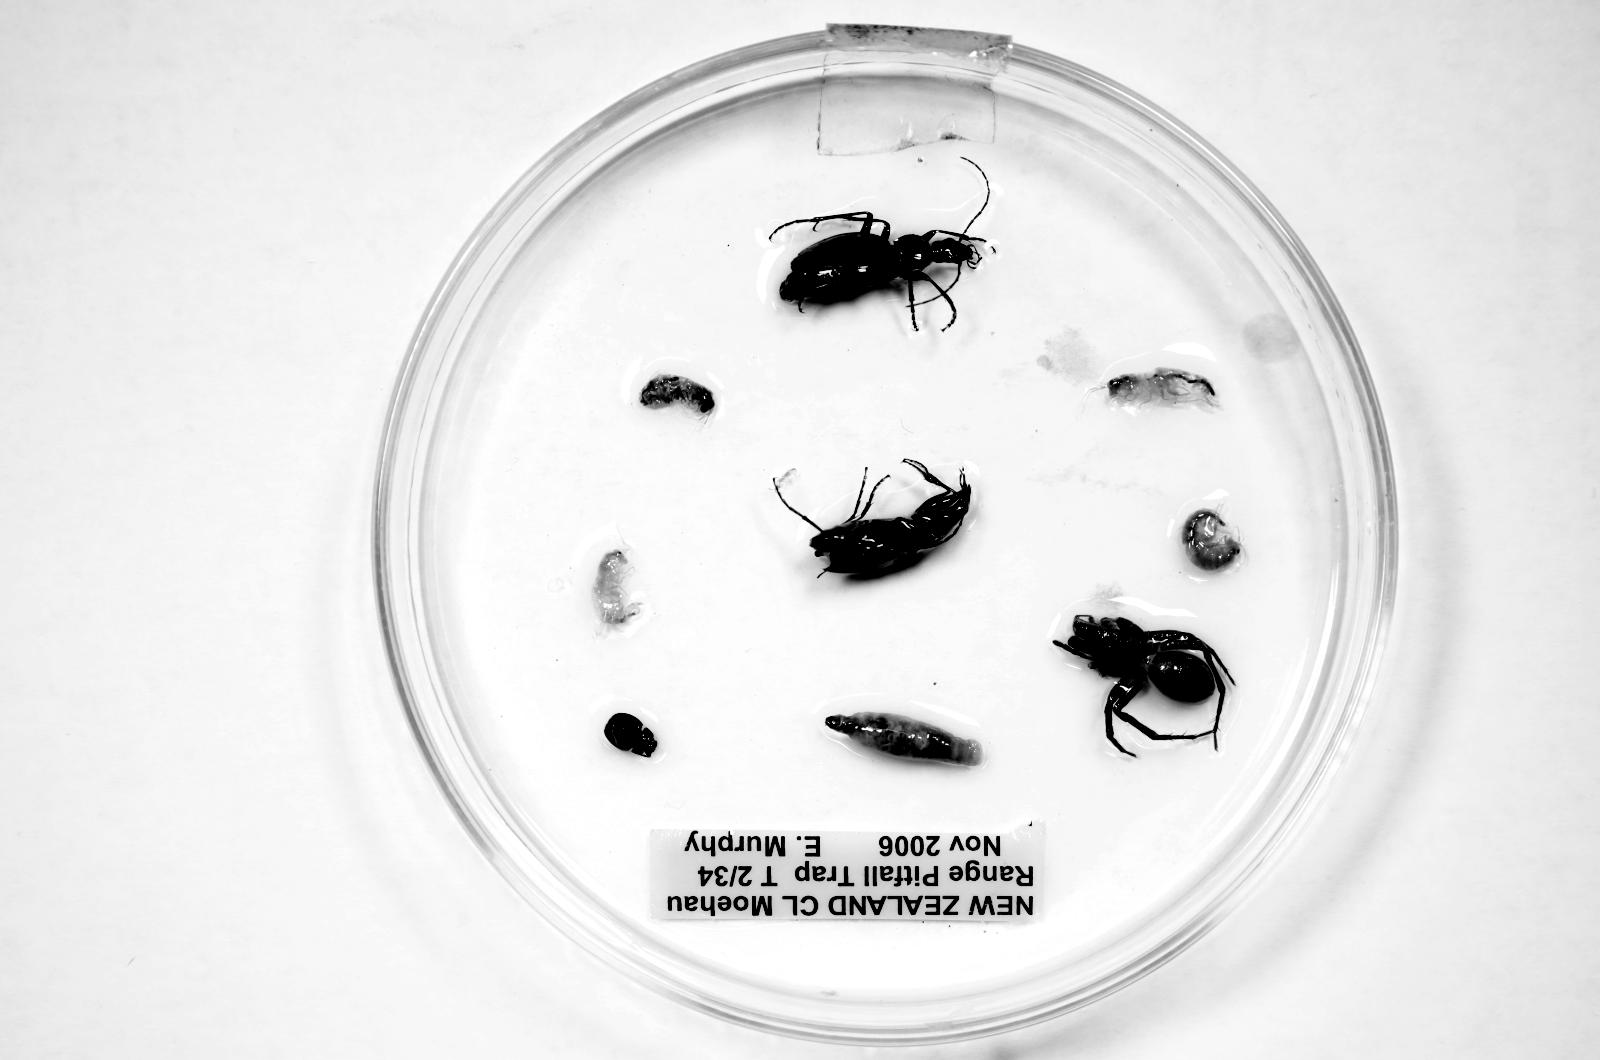amphipoda: (1104, 367, 1218, 409), (593, 549, 643, 627), (1182, 508, 1242, 572), (639, 374, 715, 415)
araneae: (1053, 614, 1235, 756)
carabidae: (776, 213, 986, 331), (811, 459, 971, 576)
coleoptera: (605, 713, 658, 758)
